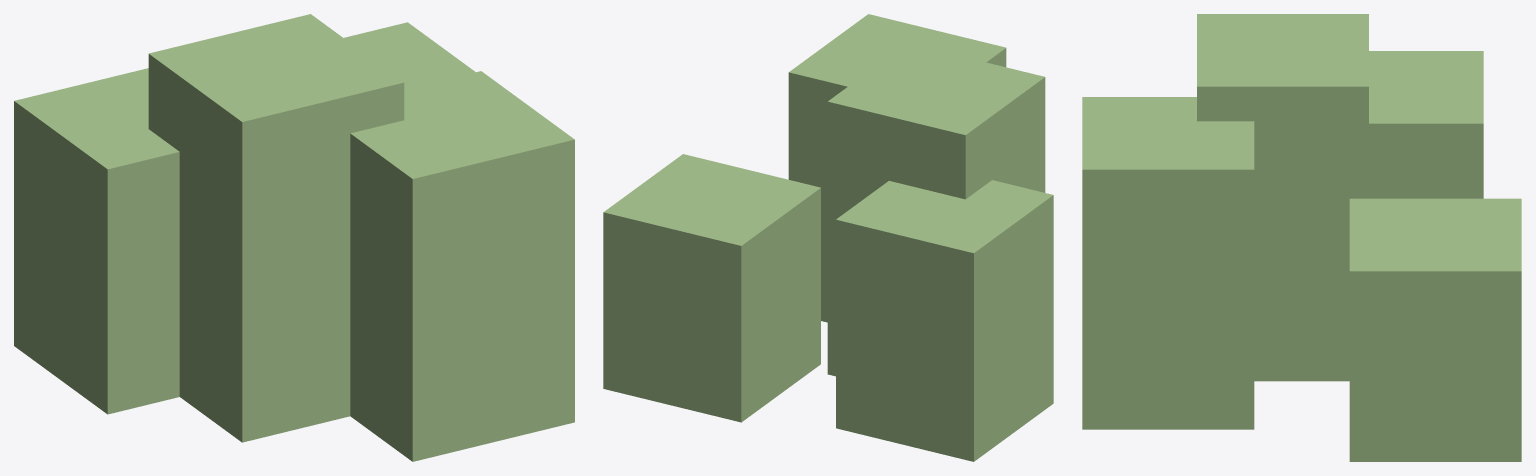
The model's file is SM_Gather_FirstHarvest.fbx.
3 views of the same model, side by side, from view 1: azimuth 30°, elevation 25°; view 2: azimuth 150°, elevation 25°; view 3: azimuth 270°, elevation 25° (orthographic). The views are drawn at different scales.
Parts seen in each view (by area): view 1: SM_Gather_FirstHarvest_Bush_2, SM_Gather_FirstHarvest_Bush_3, SM_Gather_FirstHarvest_Bush_1, SM_Gather_FirstHarvest_Bush_0; view 2: SM_Gather_FirstHarvest_Bush_1, SM_Gather_FirstHarvest_Bush_0, SM_Gather_FirstHarvest_Bush_3, SM_Gather_FirstHarvest_Bush_2; view 3: SM_Gather_FirstHarvest_Bush_2, SM_Gather_FirstHarvest_Bush_0, SM_Gather_FirstHarvest_Bush_3, SM_Gather_FirstHarvest_Bush_1.
Part boxes in pixels (x1=…): SM_Gather_FirstHarvest_Bush_2: x1=350, y1=71, x2=574, y2=461; SM_Gather_FirstHarvest_Bush_3: x1=148, y1=14, x2=404, y2=442; SM_Gather_FirstHarvest_Bush_1: x1=14, y1=68, x2=179, y2=414; SM_Gather_FirstHarvest_Bush_0: x1=344, y1=22, x2=475, y2=89; SM_Gather_FirstHarvest_Bush_1: x1=836, y1=180, x2=1053, y2=461; SM_Gather_FirstHarvest_Bush_0: x1=603, y1=154, x2=820, y2=422; SM_Gather_FirstHarvest_Bush_3: x1=827, y1=43, x2=1045, y2=376; SM_Gather_FirstHarvest_Bush_2: x1=788, y1=14, x2=1006, y2=322; SM_Gather_FirstHarvest_Bush_2: x1=1082, y1=97, x2=1254, y2=429; SM_Gather_FirstHarvest_Bush_0: x1=1349, y1=198, x2=1521, y2=461; SM_Gather_FirstHarvest_Bush_3: x1=1197, y1=14, x2=1368, y2=381; SM_Gather_FirstHarvest_Bush_1: x1=1369, y1=51, x2=1483, y2=198.
Size of the model in its own units: 1.15 by 1.15 by 0.85.
